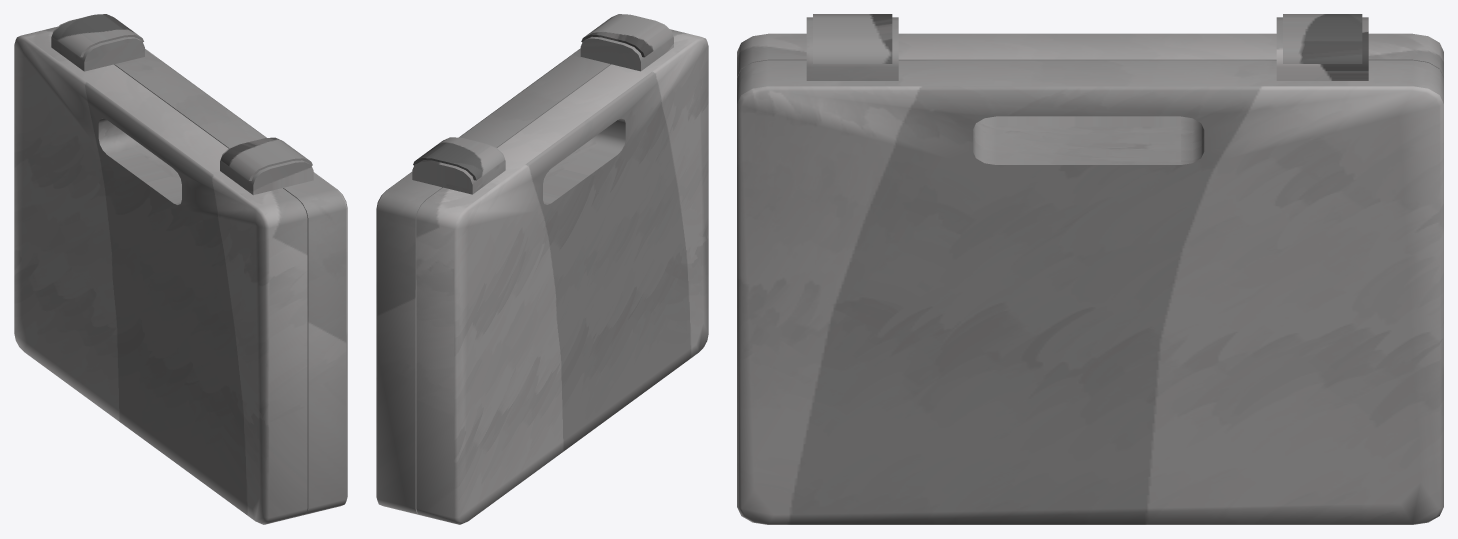
File: FirstAidKit.fbx
3 views of the same model, side by side, from view 1: azimuth 30°, elevation 25°; view 2: azimuth 150°, elevation 25°; view 3: azimuth 270°, elevation 25° (orthographic). The views are drawn at different scales.
Parts seen in each view (by area): view 1: Cube; view 2: Cube; view 3: Cube.
Part boxes in pixels (<box>): Cube: <box>14,14,347,524</box>; Cube: <box>376,14,708,524</box>; Cube: <box>737,14,1443,524</box>.
Size of the model in its own units: 23.05 by 90.41 by 123.
